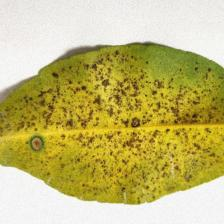canker: (30, 84, 204, 170)
